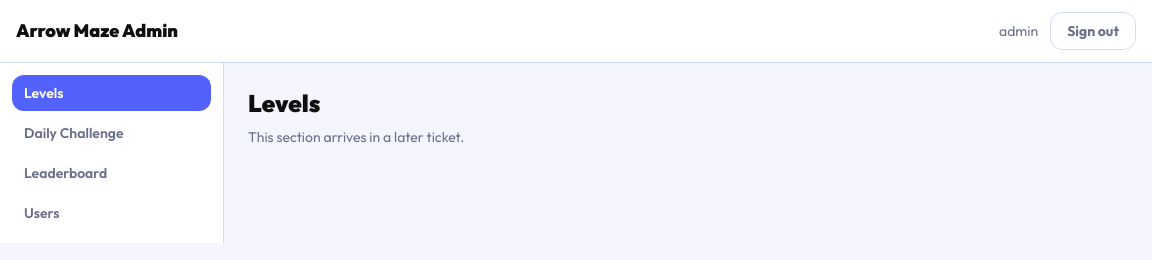
Test: AdminLayout › navigates between sections through the nav
The image size is (1152, 260).
Step 1. Click the button with test id "nav-daily-challenge" → (112, 133), box [12,115,211,151]
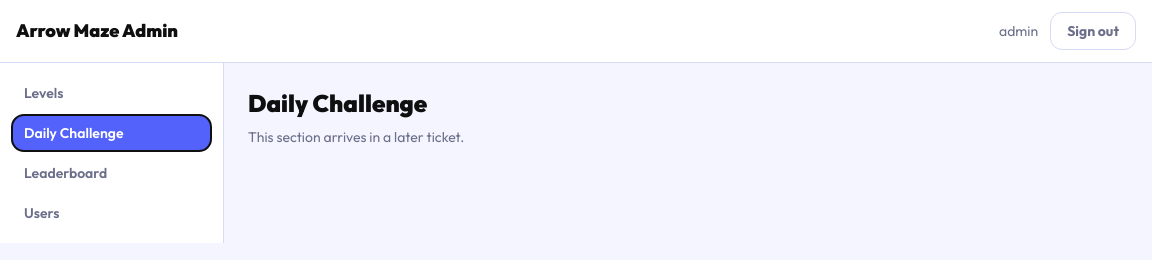
Expected: the heading with test id "section-title" reads "Daily Challenge", [248,88,427,118]
Step 2. Click the button with test id "nav-leaderboard" → (112, 173), box [12,155,211,191]
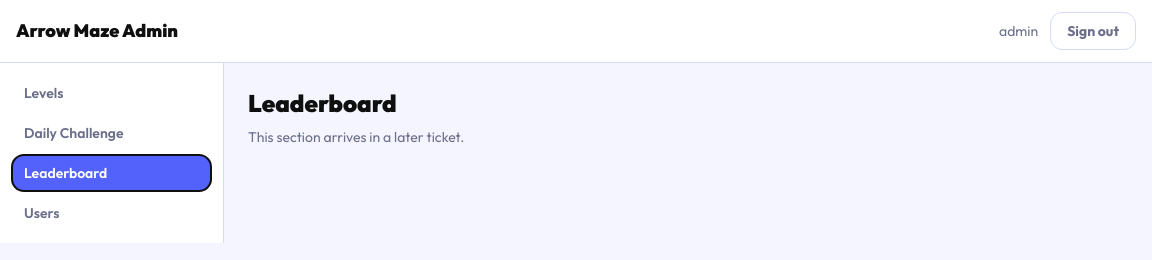
Expected: the heading with test id "section-title" reads "Leaderboard", [248,88,397,118]
